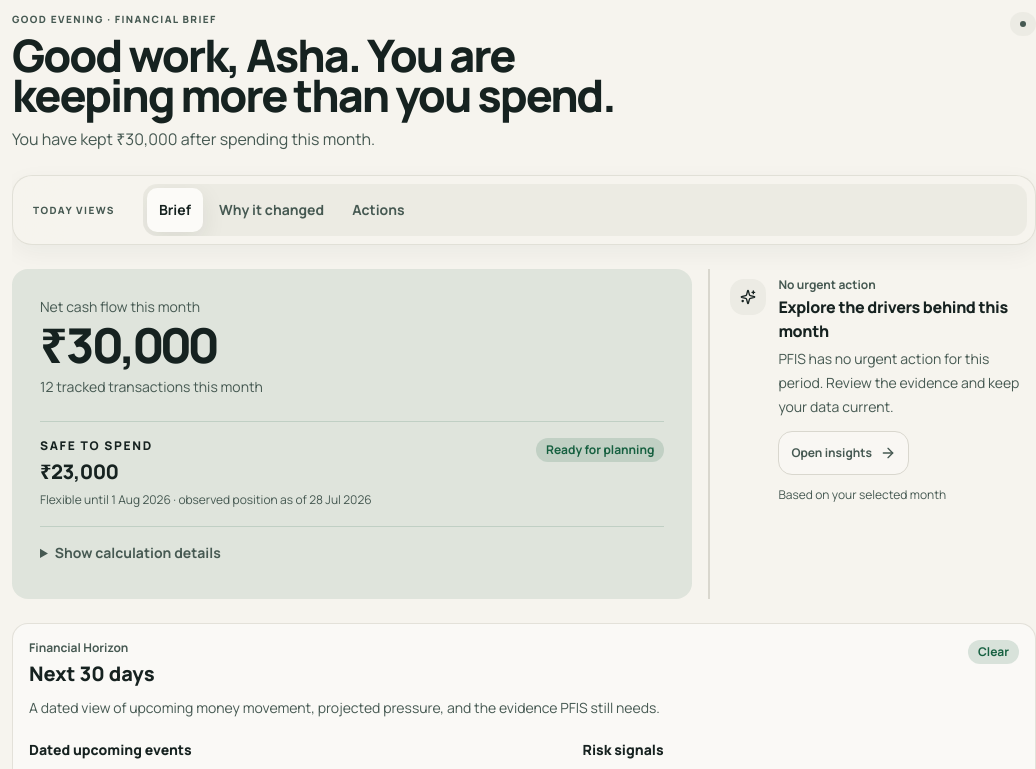
Scenario: Today Financial Horizon › uses the ready Cash Plan read model instead of a spend forecast
Expected: the text "Safe to spend" is shown, [40,437,153,454]
Expected: the text "Ready for planning" is shown, [536,438,664,462]
Click the heading "Show calculation details" at (138, 552), box [55,543,221,562]
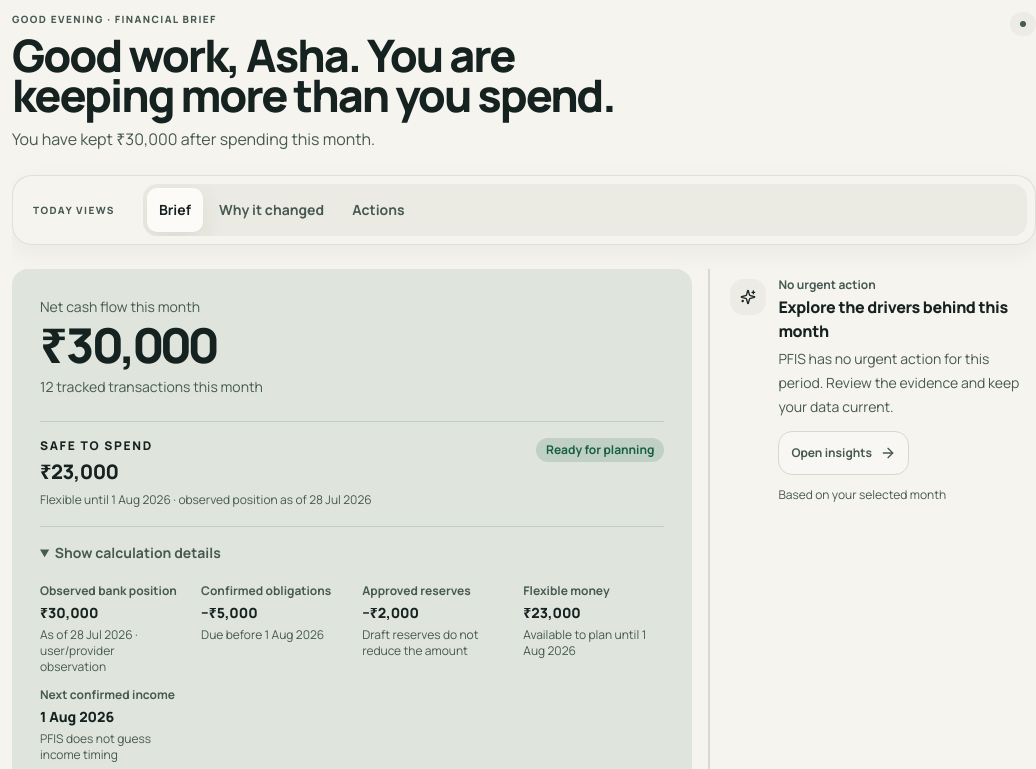
Now the text "Flexible money" is shown, box [523,582,610,599]
Now the text "Confirmed obligations" is shown, box [201,583,342,599]
Now the text "Approved reserves" is shown, box [362,582,471,599]
